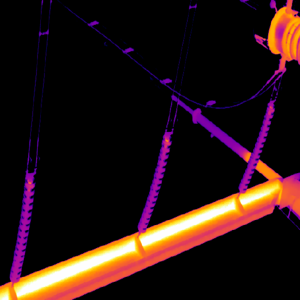insulator: (137, 133, 172, 234), (236, 101, 274, 193), (8, 175, 35, 284)
